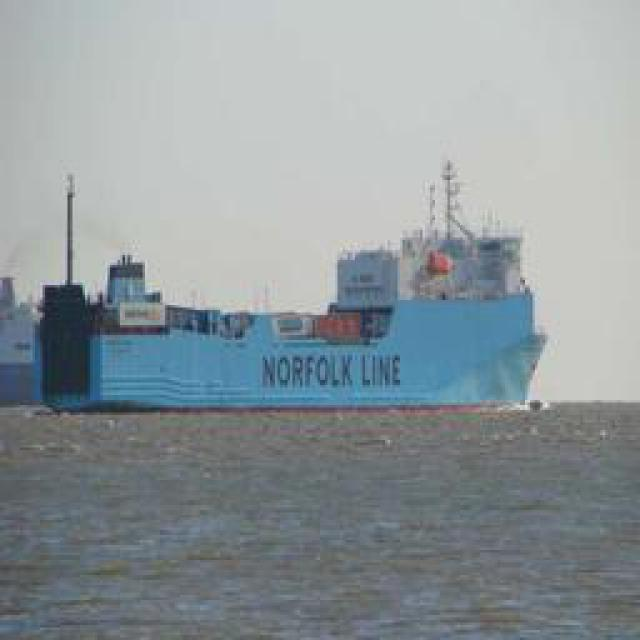Ship: (23, 231, 541, 411)
